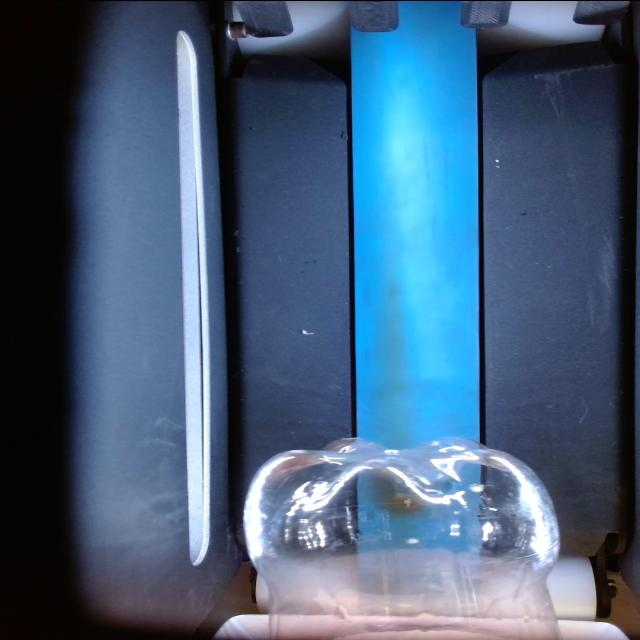bottom: (245, 438, 560, 640)
